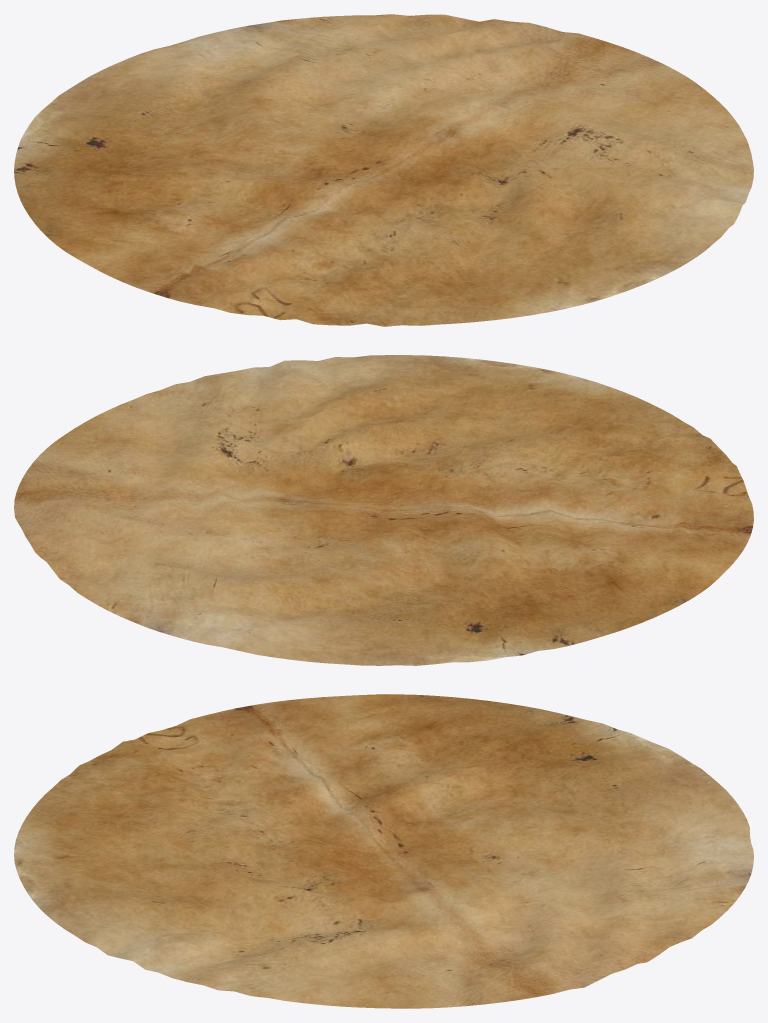
The model's file is beige-fur-bathmat.glb.
The picture shows the model from 3 angles, top to bottom: view 1: azimuth 30°, elevation 25°; view 2: azimuth 150°, elevation 25°; view 3: azimuth 270°, elevation 25°; orthographic projection.
Visible parts, largest first — view 1: peau de vache.002; view 2: peau de vache.002; view 3: peau de vache.002.
Boxes of the visible parts, <box> form: peau de vache.002: <box>14,14,753,326</box>; peau de vache.002: <box>14,355,753,665</box>; peau de vache.002: <box>14,694,753,1008</box>.
Bounding box in the file's own units: 0.8106 × 0.0194 × 0.8064.
1 material, 1 textured.
